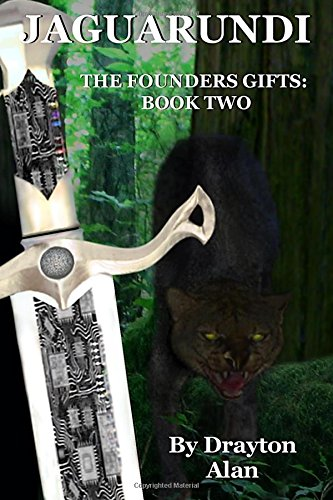Jaguarundi: (161, 136, 287, 427)
